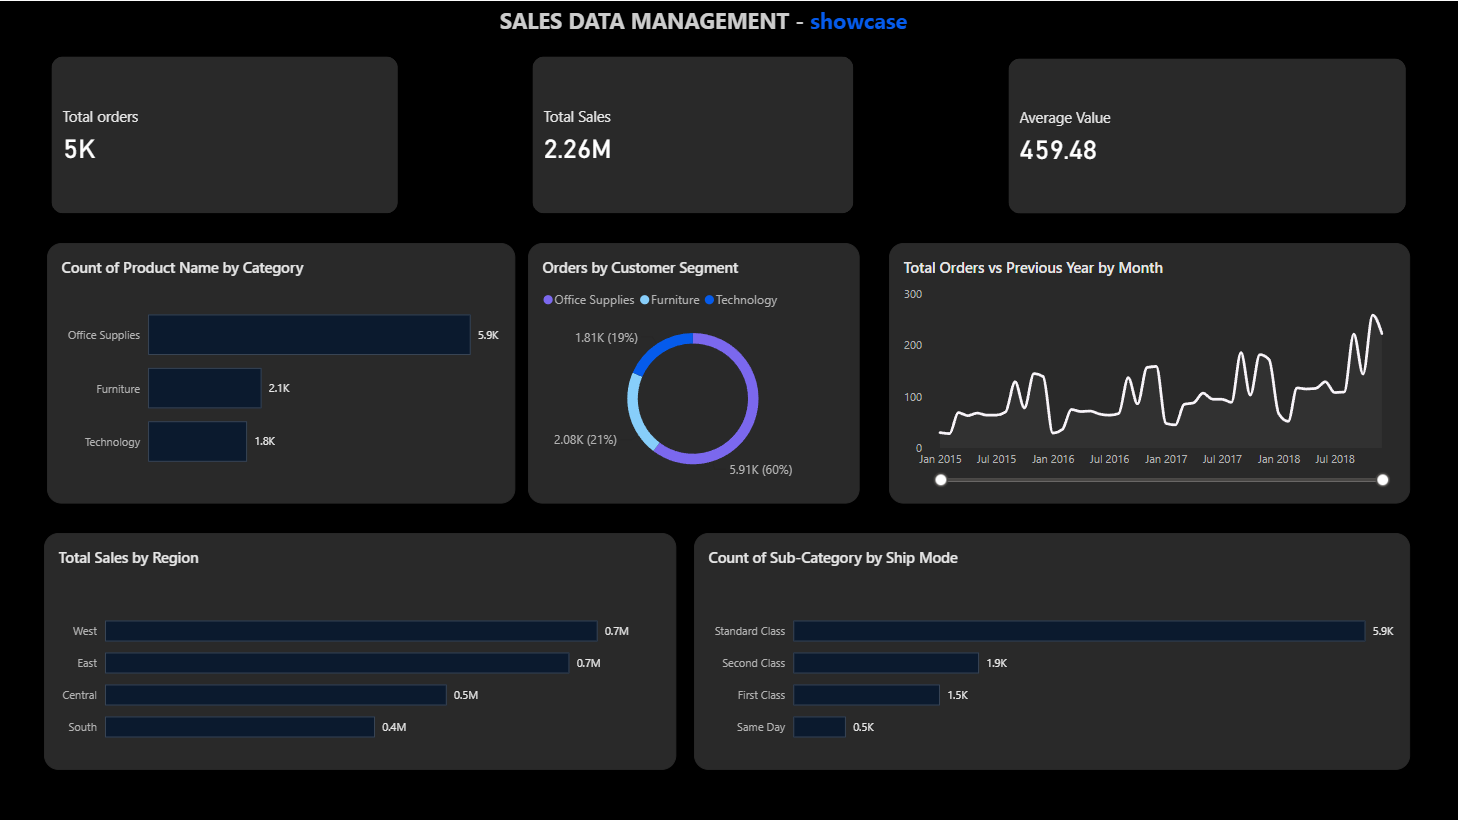

The dashboard page shown, as its layout file describes it:
{"tool":"powerbi","page":{"name":"Overview","canvas":[1600,900],"ordinal":0},"visuals":[{"type":"cardVisual","fields":{"Data":["_Measurement.Total orders"]},"box":[52,56,390,182],"z":0},{"type":"textbox","box":[542,0,460,56],"z":3000},{"type":"areaChart","title":"Total Orders vs Previous Year by Month","fields":{"Y":["_Measurement.Total orders"],"Category":["Sales_Data.Order Date.Variation.Date Hierarchy.Year","Sales_Data.Order Date.Variation.Date Hierarchy.Month"]},"box":[976,266,572,286],"z":4000},{"type":"clusteredBarChart","fields":{"Category":["Sales_Data.Ship Mode"],"Y":["CountNonNull(Sales_Data.Sub-Category)"]},"box":[762,584,786,260],"z":11000},{"type":"clusteredBarChart","fields":{"Category":["Sales_Data.Category"],"Y":["CountNonNull(Sales_Data.Product Name)"]},"box":[52,266,514,286],"z":12000},{"type":"clusteredBarChart","fields":{"Category":["Sales_Data.Region"],"Y":["_Measurement.Total Sales"]},"box":[48,584,694,260],"z":14000},{"type":"donutChart","title":"Orders by Customer Segment","fields":{"Category":["Sales_Data.Category"],"Y":["CountNonNull(Sales_Data.Product Name)"]},"box":[580,266,364,286],"z":15000},{"type":"cardVisual","fields":{"Data":["_Measurement.Average Value"]},"box":[1102,58,446,180],"z":21000},{"type":"cardVisual","fields":{"Data":["_Measurement.Total Sales"]},"box":[580,56,362,182],"z":22000}]}

Visuals, with their boxes in screenshot pixels (x1, y1, x2, y2), scaled from the page's 1600x900 canvas onto the 1458x820 screenshot:
cardVisual - _Measurement.Total orders: bbox(47, 51, 403, 217)
textbox: bbox(494, 0, 913, 51)
"Total Orders vs Previous Year by Month" areaChart: bbox(889, 242, 1411, 503)
clusteredBarChart - Sales_Data.Ship Mode x CountNonNull(Sales_Data.Sub-Category): bbox(694, 532, 1411, 769)
clusteredBarChart - Sales_Data.Category x CountNonNull(Sales_Data.Product Name): bbox(47, 242, 516, 503)
clusteredBarChart - Sales_Data.Region x _Measurement.Total Sales: bbox(44, 532, 676, 769)
"Orders by Customer Segment" donutChart: bbox(529, 242, 860, 503)
cardVisual - _Measurement.Average Value: bbox(1004, 53, 1411, 217)
cardVisual - _Measurement.Total Sales: bbox(529, 51, 858, 217)
